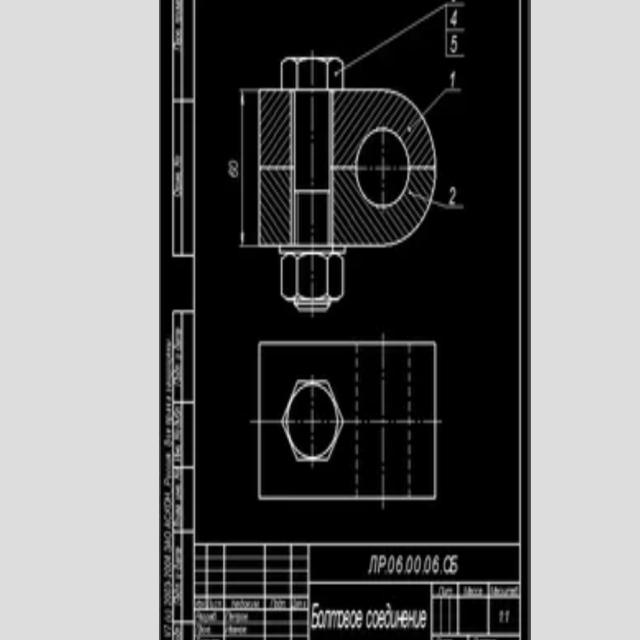marking_line: (238, 87, 258, 248)
numeric: (367, 556, 378, 576), (451, 553, 460, 575), (443, 555, 452, 576), (413, 554, 422, 574), (449, 186, 458, 205), (497, 610, 507, 627), (432, 555, 440, 576), (387, 554, 395, 575), (378, 553, 386, 574), (405, 555, 413, 575), (450, 36, 458, 55), (449, 10, 458, 26), (424, 555, 431, 575), (396, 554, 403, 574), (228, 169, 239, 179), (228, 158, 239, 168), (505, 610, 511, 623), (451, 72, 456, 87)
